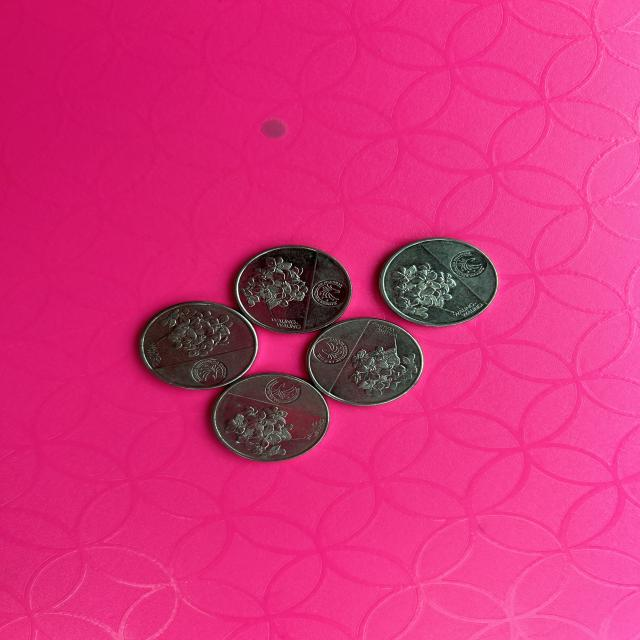1_New_Back: (216, 399, 299, 460), (238, 252, 312, 312), (155, 302, 233, 356), (386, 259, 456, 316), (351, 336, 416, 397)
